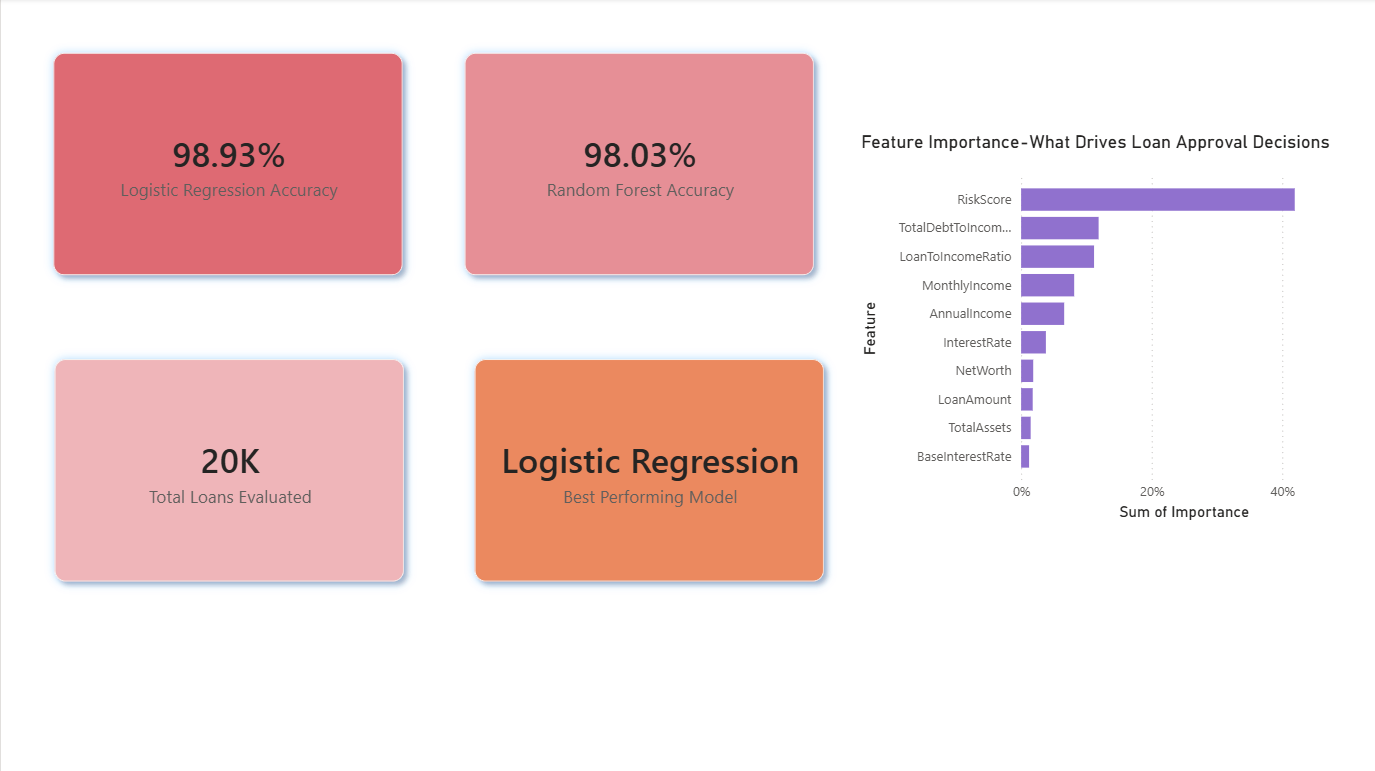

The page's visual inventory and layout, read from the dashboard file:
{"tool":"powerbi","page":{"name":"Risk Prediction","canvas":[1280,720],"ordinal":4},"visuals":[{"type":"cardVisual","fields":{"Data":["loan_data_with_risk.LogisticRegressionAccuracy"]},"box":[19.8,22.1,383,265],"z":0},{"type":"cardVisual","fields":{"Data":["loan_data_with_risk.RandomForestAccuracy"]},"box":[402.3,22.1,383,265],"z":1000},{"type":"cardVisual","fields":{"Data":["CountNonNull(loan_data_with_risk.LoanApproved)"]},"box":[20.9,307,383,265],"z":2000},{"type":"cardVisual","fields":{"Data":["loan_data_with_risk.BestModel"]},"box":[411.6,307,383.7,265.1],"z":3000},{"type":"clusteredBarChart","title":"Feature Importance-What Drives Loan Approval Decisions","fields":{"Category":["FeatureImportance.Feature"],"Y":["Sum(FeatureImportance.Importance)"]},"box":[795.4,123.3,474.4,367.4],"z":4000}]}

Visuals, with their boxes in screenshot pixels (x1, y1, x2, y2), scaled from the page's 1280x720 canvas onto the 1375x771 screenshot:
cardVisual - loan_data_with_risk.LogisticRegressionAccuracy: [x1=21, y1=24, x2=433, y2=307]
cardVisual - loan_data_with_risk.RandomForestAccuracy: [x1=432, y1=24, x2=844, y2=307]
cardVisual - CountNonNull(loan_data_with_risk.LoanApproved): [x1=22, y1=329, x2=434, y2=613]
cardVisual - loan_data_with_risk.BestModel: [x1=442, y1=329, x2=854, y2=613]
"Feature Importance-What Drives Loan Approval Decisions" clusteredBarChart: [x1=854, y1=132, x2=1364, y2=525]
